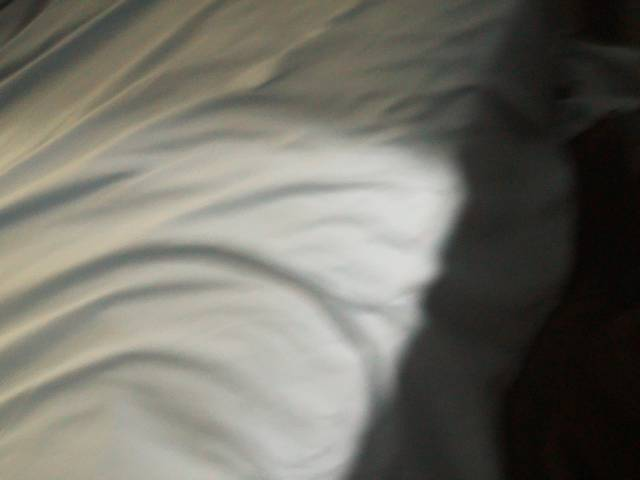shadow: (0, 0, 48, 32)
